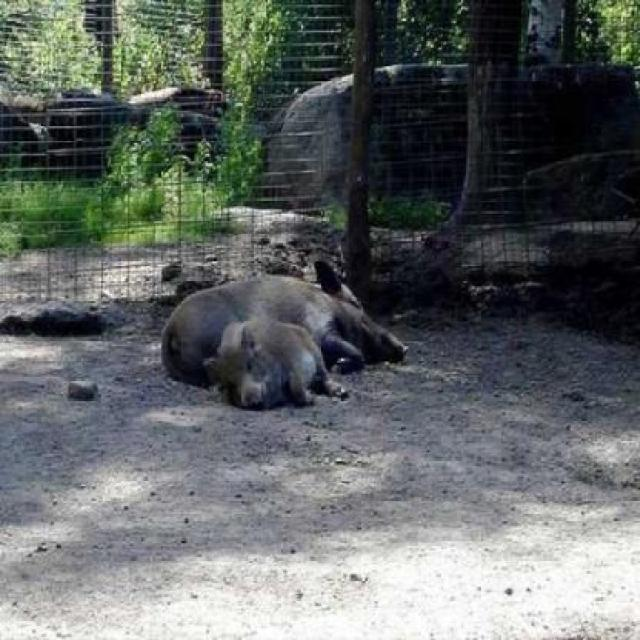Boar: (129, 256, 382, 359)
